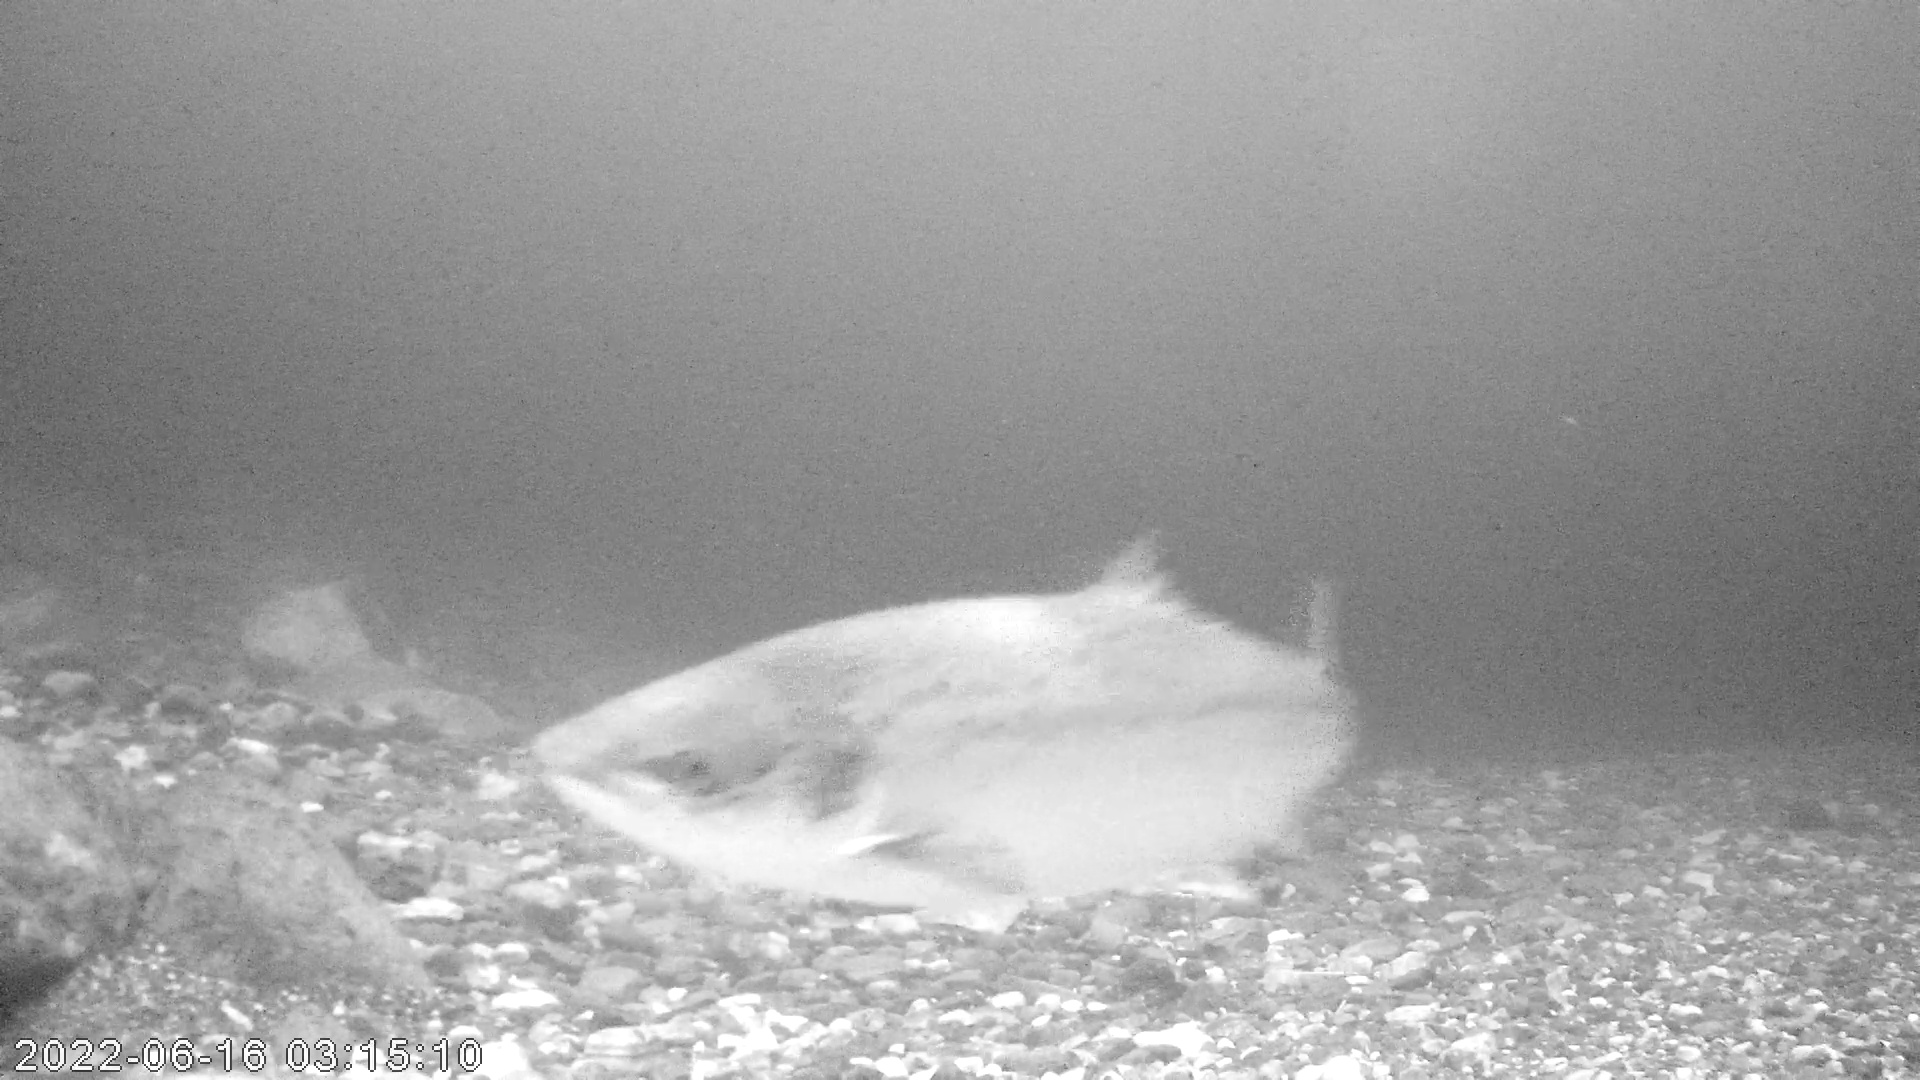salmon: (526, 527, 1364, 940)
